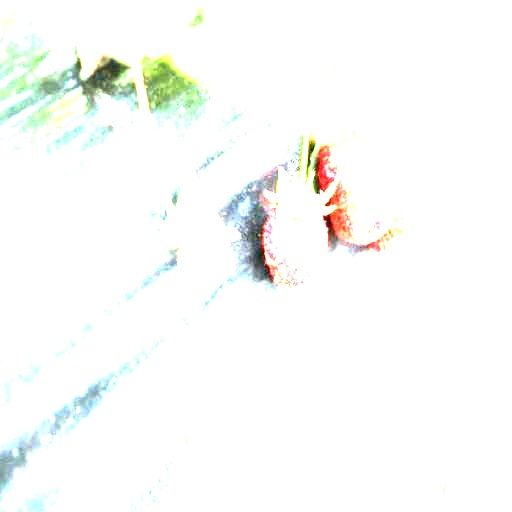Gray Mold: (148, 170, 241, 299)
